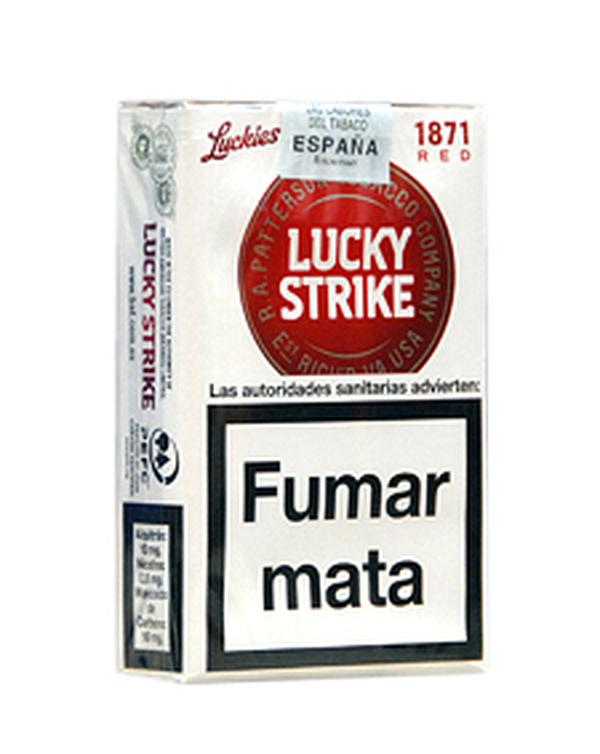lucky_strike_red: (190, 105, 479, 668)
